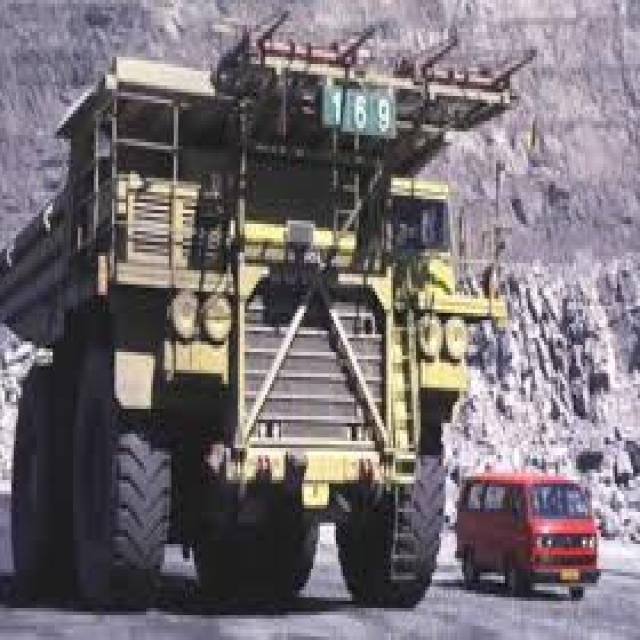dump_truck: (2, 25, 501, 622)
light_vehicle: (450, 452, 606, 615)
